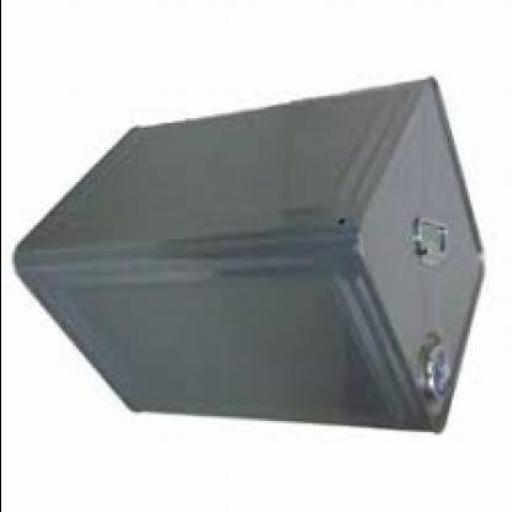metal: (22, 73, 485, 432)
